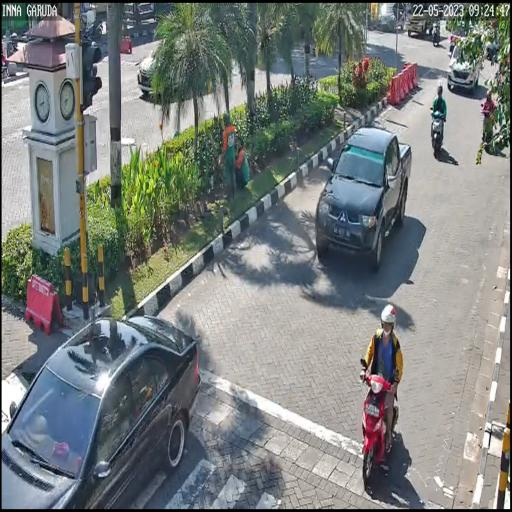mobil: (4, 315, 207, 506), (315, 120, 405, 283)
motor: (351, 340, 403, 497), (421, 100, 451, 155)
